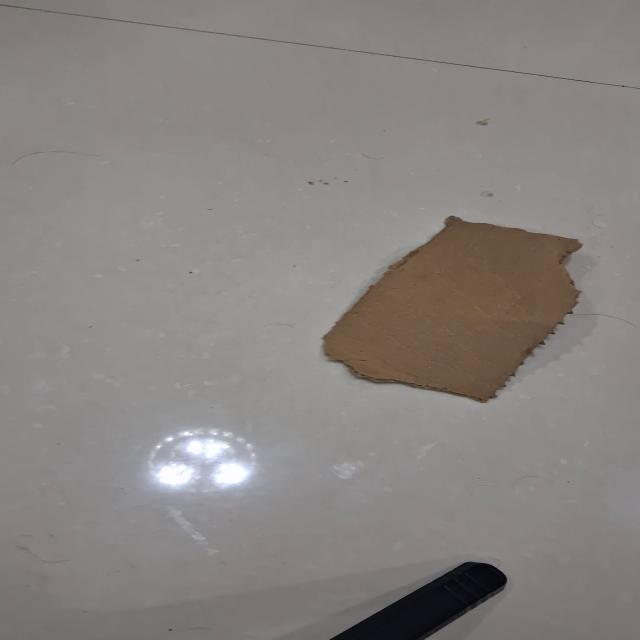paper: (320, 214, 584, 403)
